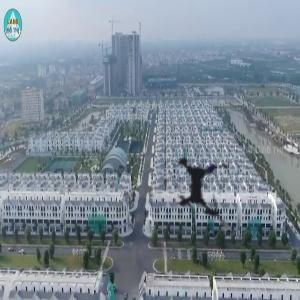drone: (130, 116, 276, 262)
